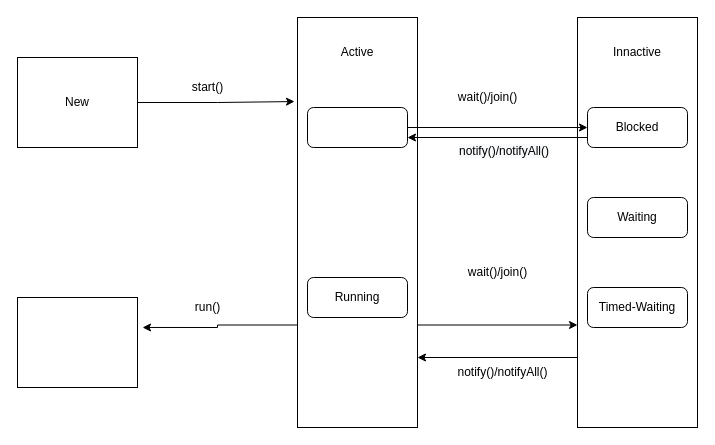
Image size: 715x445. Some labels were removed from this diagram. The box of each missing label's shape, as (x1, y1, x2, y2) in pixels:
Runnable: (306, 106, 408, 148)
Terminated: (16, 296, 138, 388)
